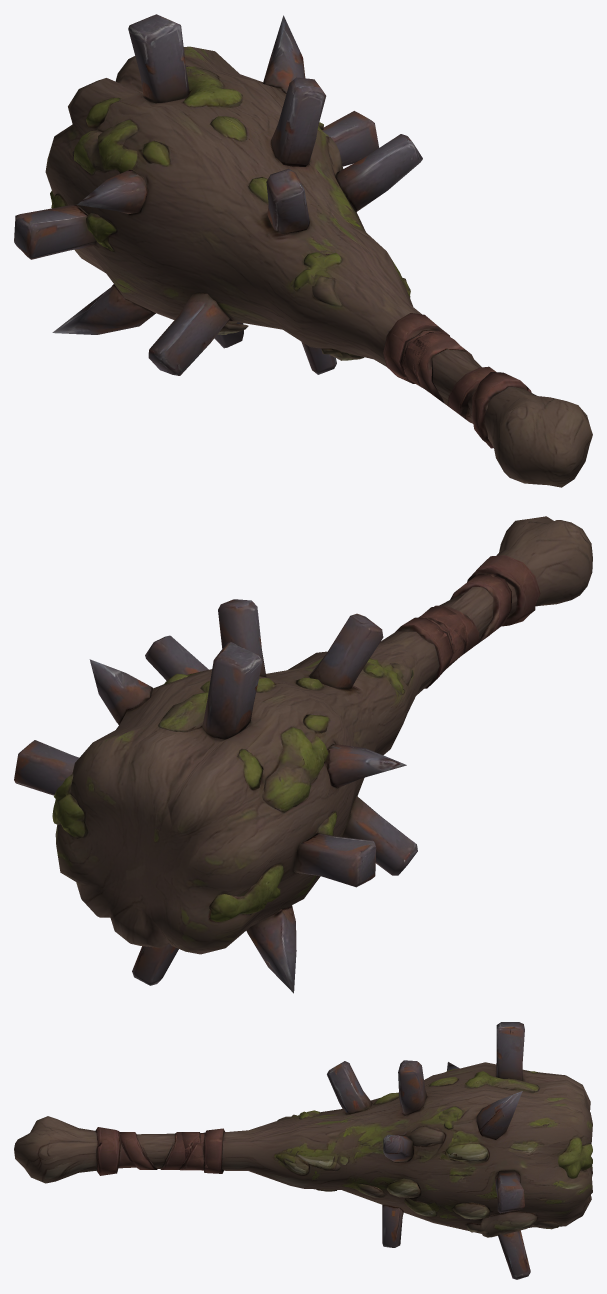
Rendered from ogre_club_tripo.glb.
3 renders of one model, top to bottom at view 1: azimuth 30°, elevation 25°; view 2: azimuth 150°, elevation 25°; view 3: azimuth 270°, elevation 25°, orthographic. The views are drawn at different scales.
Visible parts, largest first — view 1: tripo_node_a149163d-9409-4d97-a77e-fc73636ddcb8; view 2: tripo_node_a149163d-9409-4d97-a77e-fc73636ddcb8; view 3: tripo_node_a149163d-9409-4d97-a77e-fc73636ddcb8.
Boxes of the visible parts, x1=… form: tripo_node_a149163d-9409-4d97-a77e-fc73636ddcb8: x1=14, y1=14, x2=592, y2=487; tripo_node_a149163d-9409-4d97-a77e-fc73636ddcb8: x1=14, y1=516, x2=592, y2=993; tripo_node_a149163d-9409-4d97-a77e-fc73636ddcb8: x1=14, y1=1022, x2=592, y2=1279.
Size of the model in its own units: 0.4629 by 0.4395 by 0.998.
Materials: 1 (1 with a texture image).
